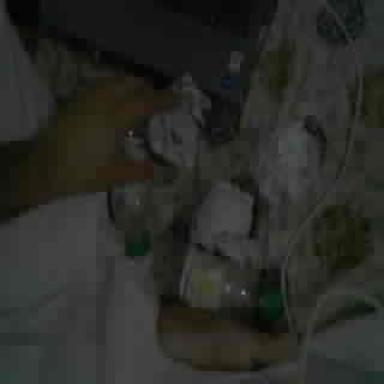paper: (192, 120, 318, 248), (150, 88, 208, 170)
